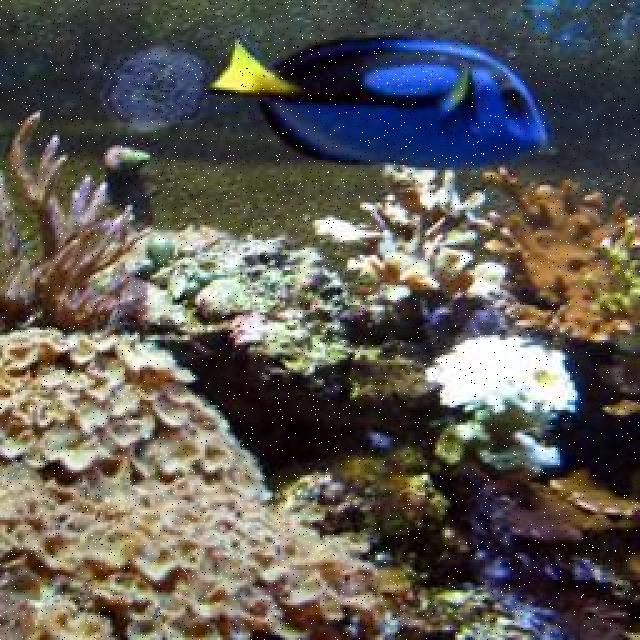fish: (206, 36, 551, 170)
reefs: (0, 114, 638, 638)
